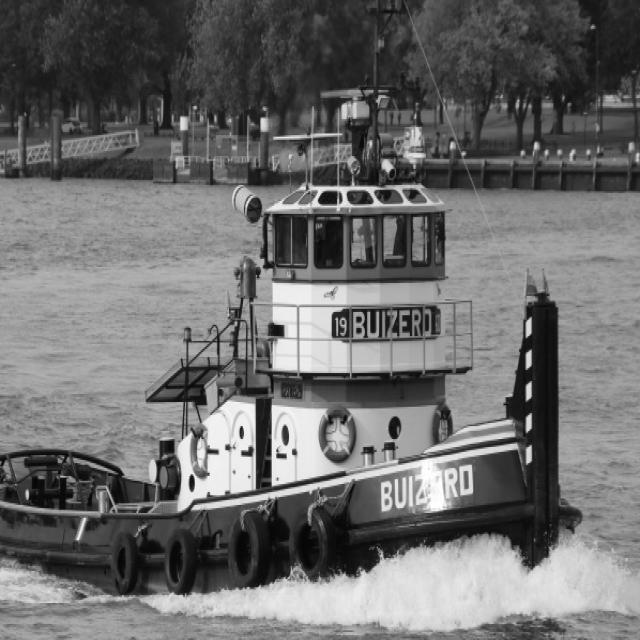tugboat: (1, 80, 590, 622)
